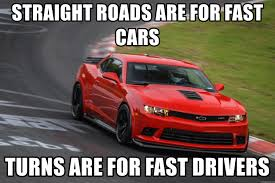car: (69, 48, 253, 154)
